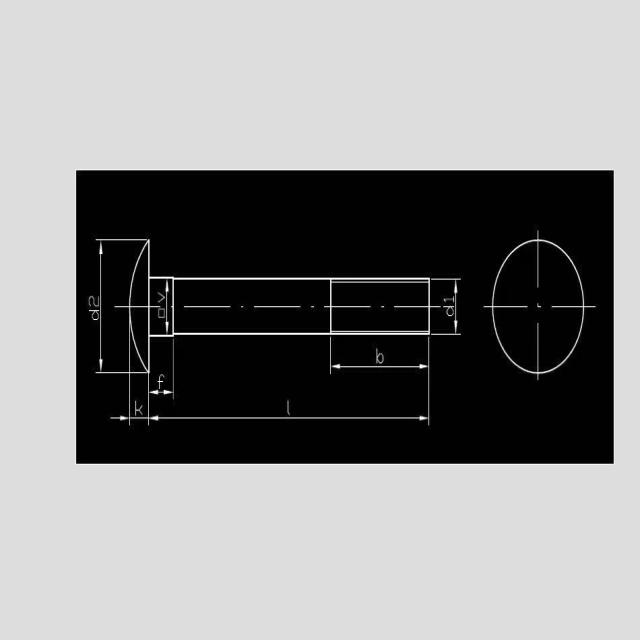marking_line: (146, 376, 430, 428), (96, 238, 129, 375), (329, 336, 431, 374), (107, 376, 161, 426), (431, 277, 462, 336), (109, 376, 133, 426), (148, 376, 176, 399), (165, 280, 170, 333)
numeric: (443, 296, 455, 304)
special_symbol: (157, 291, 165, 304)
